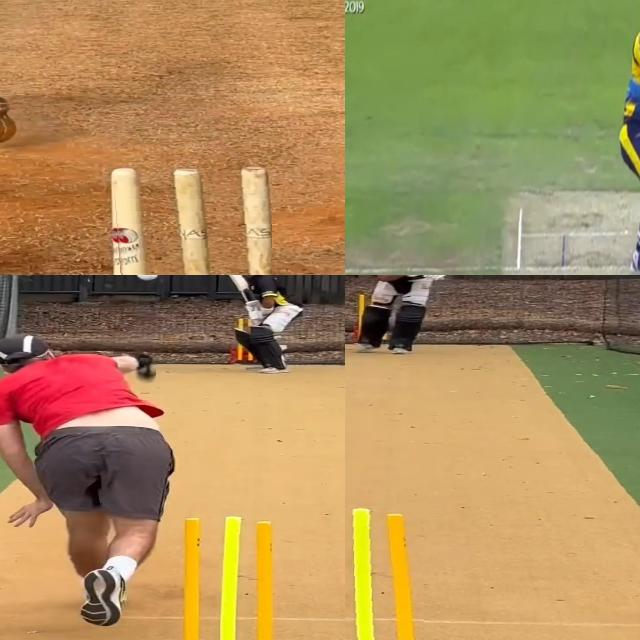Cricket ball: (132, 275, 163, 283)
Stumps: (112, 168, 271, 275), (161, 512, 287, 640), (345, 508, 424, 640)
